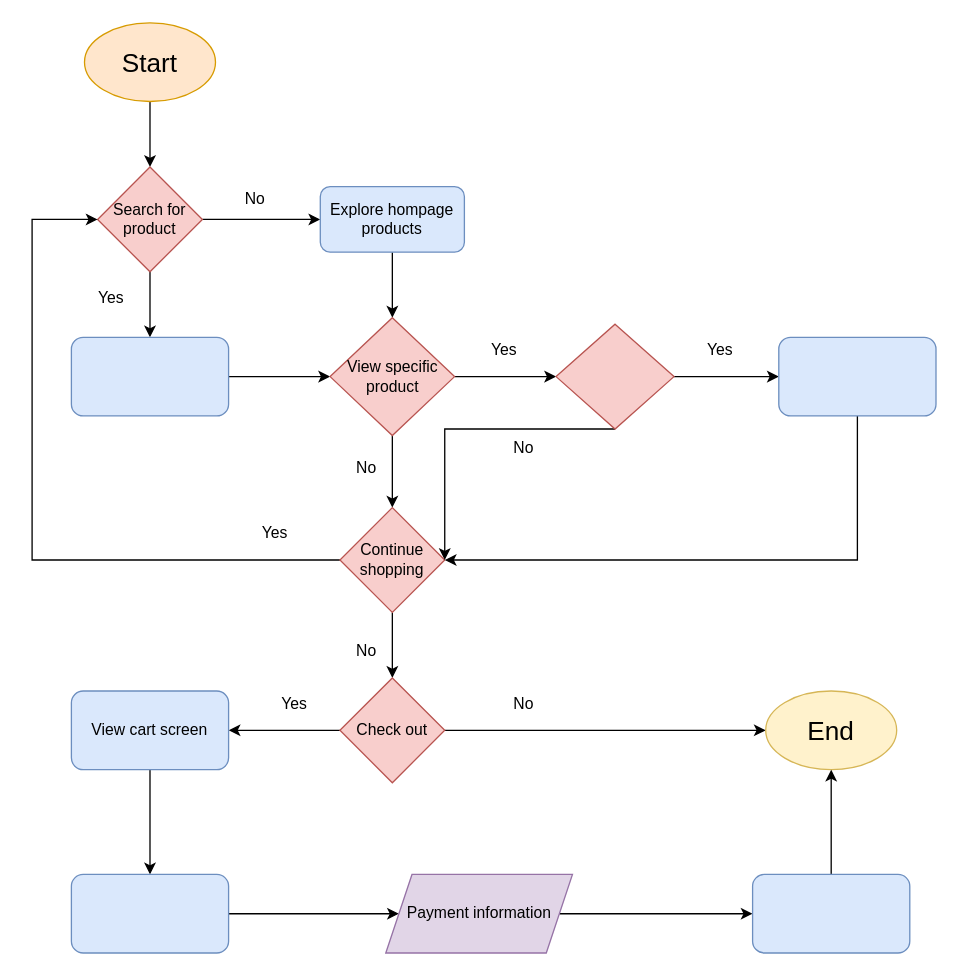
The diagram is 959 pixels wide and 976 high, and some of its shapes have lost their labels. The box of each missing label's shape, as (x1, y1, x2, y2) in pixels:
Add item cart?: (555, 323, 674, 429)
Added to cart confirmation: (777, 336, 936, 416)
Order confirmation (Email sent): (751, 873, 910, 953)
View payment screen: (70, 873, 229, 953)
Website according to their search: (70, 336, 229, 416)
